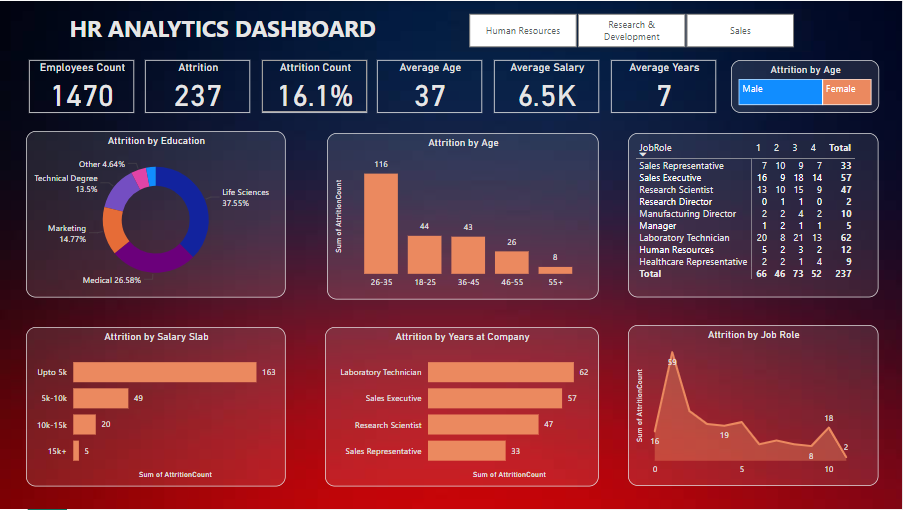

The page's visual inventory and layout, read from the dashboard file:
{"tool":"powerbi","page":{"name":"Page 1","canvas":[1280,720],"ordinal":0},"visuals":[{"type":"card","title":"Employees Count","fields":{"Values":["CountNonNull(HR_Analytics.EmpID)"]},"box":[43.1,83.3,149.4,74.7],"z":0},{"type":"card","title":"Attrition","fields":{"Values":["Sum(HR_Analytics.AttritionCount)"]},"box":[206.9,83.3,149.4,74.7],"z":1000},{"type":"card","title":"Attrition Count","fields":{"Values":["HR_Analytics.AttritionRate"]},"box":[372.1,83.3,149.4,74.7],"z":2000},{"type":"card","title":"Average Age","fields":{"Values":["Avg(HR_Analytics.Age)"]},"box":[535.8,83.3,149.4,74.7],"z":3000},{"type":"card","title":"Average Salary","fields":{"Values":["Avg(HR_Analytics.MonthlyIncome)"]},"box":[701.1,83.3,149.4,74.7],"z":4000},{"type":"card","title":"Average Years","fields":{"Values":["Avg(HR_Analytics.YearsAtCompany)"]},"box":[867.7,83.3,149.4,74.7],"z":5000},{"type":"donutChart","title":"Attrition by Education","fields":{"Category":["HR_Analytics.EducationField"],"Y":["Sum(HR_Analytics.AttritionCount)"]},"box":[38.8,183.9,367.8,235.6],"z":6000},{"type":"columnChart","title":"Attrition by Age","fields":{"Category":["HR_Analytics.AgeGroup"],"Y":["Sum(HR_Analytics.AttritionCount)"]},"box":[465.5,186.8,385,235.6],"z":7000},{"type":"pivotTable","fields":{"Rows":["HR_Analytics.JobRole"],"Columns":["HR_Analytics.JobSatisfaction"],"Values":["Sum(HR_Analytics.AttritionCount)"]},"box":[892.1,186.8,354.8,232.7],"z":8000},{"type":"barChart","title":"Attrition by Salary Slab","fields":{"Category":["HR_Analytics.SalarySlab"],"Y":["Sum(HR_Analytics.AttritionCount)"]},"box":[38.8,462.6,367.8,225.5],"z":9000},{"type":"barChart","title":"Attrition by Years at Company","fields":{"Y":["Sum(HR_Analytics.AttritionCount)"],"Category":["HR_Analytics.JobRole"]},"box":[462.6,462.6,387.9,225.5],"z":10000},{"type":"areaChart","title":"Attrition by Job Role","fields":{"Y":["Sum(HR_Analytics.AttritionCount)"],"Category":["HR_Analytics.YearsAtCompany"]},"box":[892.1,459.7,354.8,228.4],"z":11000},{"type":"treemap","title":"Attrition by Age","fields":{"Values":["Sum(HR_Analytics.AttritionCount)"],"Group":["HR_Analytics.Gender"]},"box":[1037.2,83.3,209.7,74.7],"z":12000},{"type":"slicer","fields":{"Values":["HR_Analytics.Department"]},"box":[640.6,11.3,510.2,60.9],"z":13000},{"type":"textbox","box":[95,11.3,515.9,60.9],"z":13001}]}

Visuals, with their boxes in screenshot pixels (x1, y1, x2, y2), scaled from the page's 1280x720 canvas onto the 903x510 screenshot:
"Employees Count" card: <bbox>30, 59, 136, 112</bbox>
"Attrition" card: <bbox>146, 59, 251, 112</bbox>
"Attrition Count" card: <bbox>263, 59, 368, 112</bbox>
"Average Age" card: <bbox>378, 59, 483, 112</bbox>
"Average Salary" card: <bbox>495, 59, 600, 112</bbox>
"Average Years" card: <bbox>612, 59, 718, 112</bbox>
"Attrition by Education" donutChart: <bbox>27, 130, 287, 297</bbox>
"Attrition by Age" columnChart: <bbox>328, 132, 600, 299</bbox>
pivotTable - HR_Analytics.JobRole x HR_Analytics.JobSatisfaction: <bbox>629, 132, 880, 297</bbox>
"Attrition by Salary Slab" barChart: <bbox>27, 328, 287, 487</bbox>
"Attrition by Years at Company" barChart: <bbox>326, 328, 600, 487</bbox>
"Attrition by Job Role" areaChart: <bbox>629, 326, 880, 487</bbox>
"Attrition by Age" treemap: <bbox>732, 59, 880, 112</bbox>
slicer - HR_Analytics.Department: <bbox>452, 8, 812, 51</bbox>
textbox: <bbox>67, 8, 431, 51</bbox>
